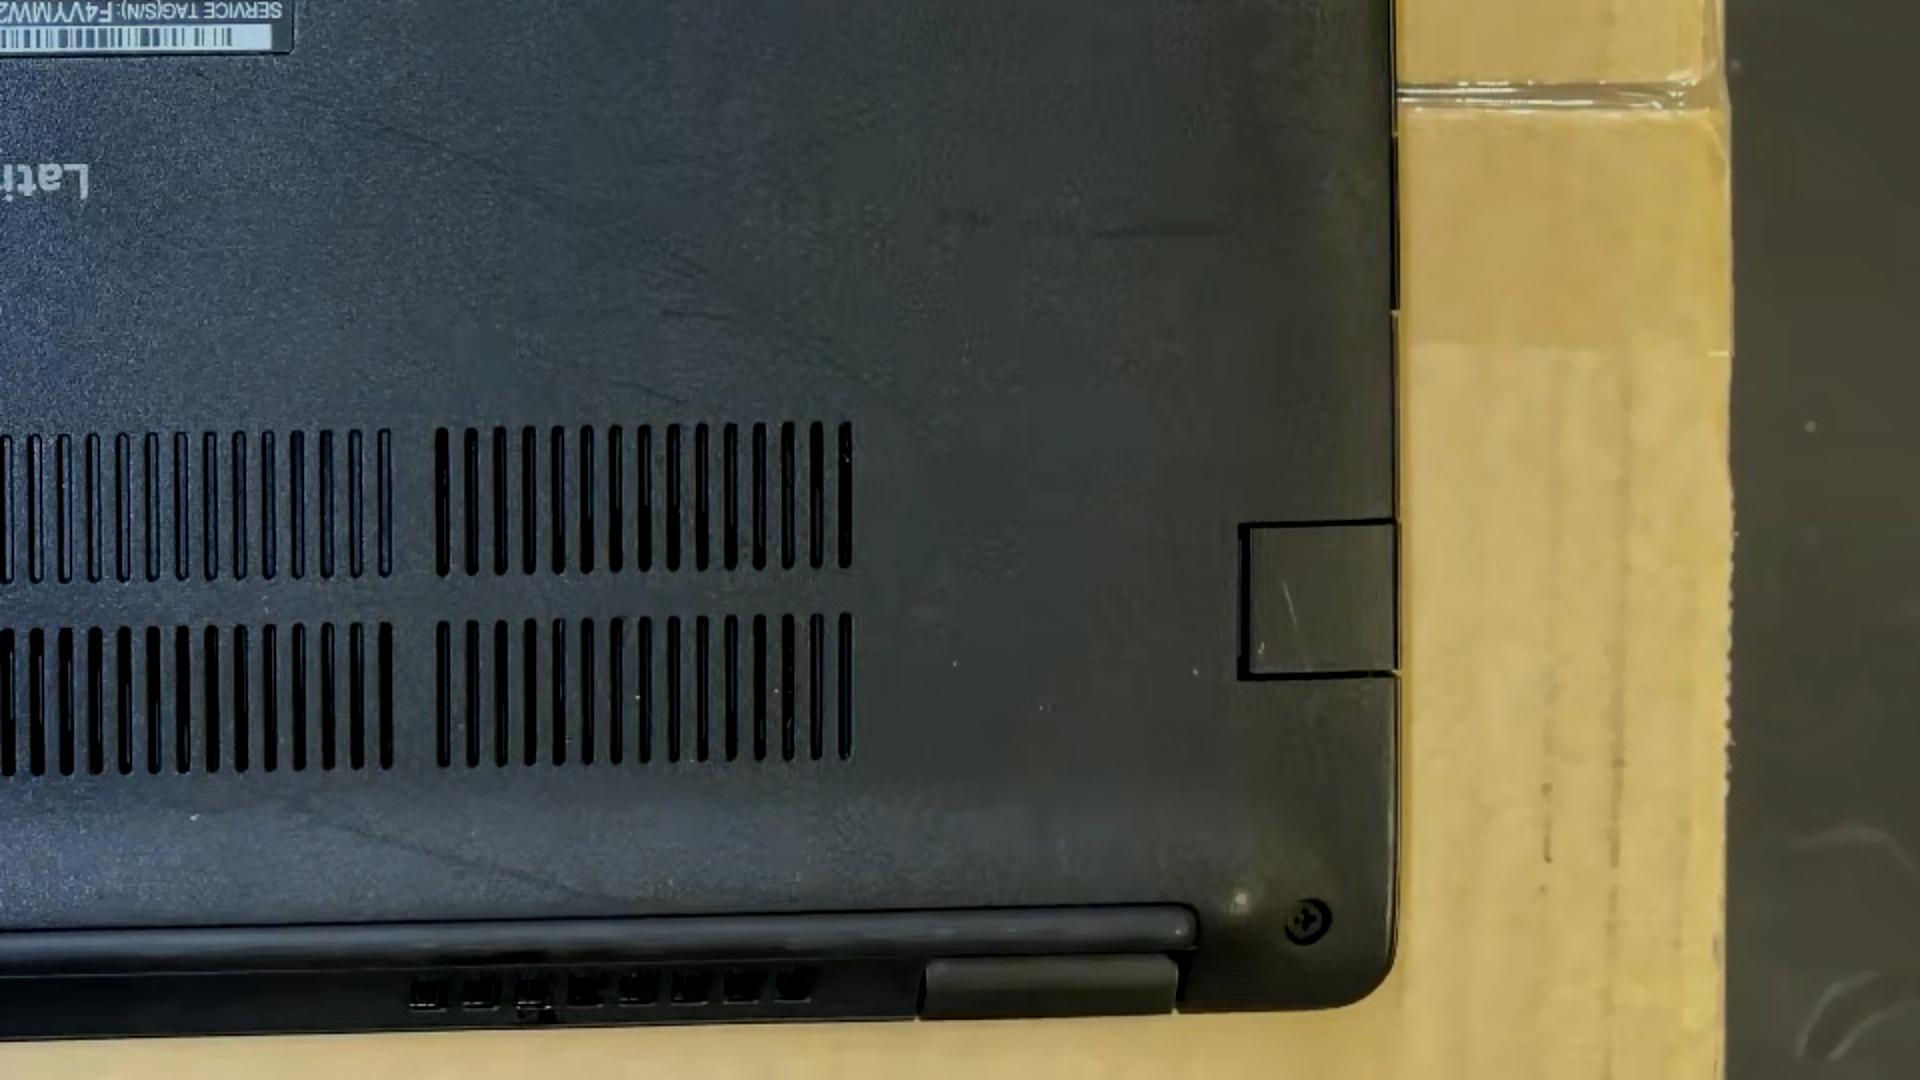scratches: (289, 91, 923, 430), (285, 795, 628, 910), (1278, 578, 1315, 671), (613, 380, 688, 410), (662, 307, 733, 323), (189, 812, 202, 823), (1257, 641, 1266, 655)
